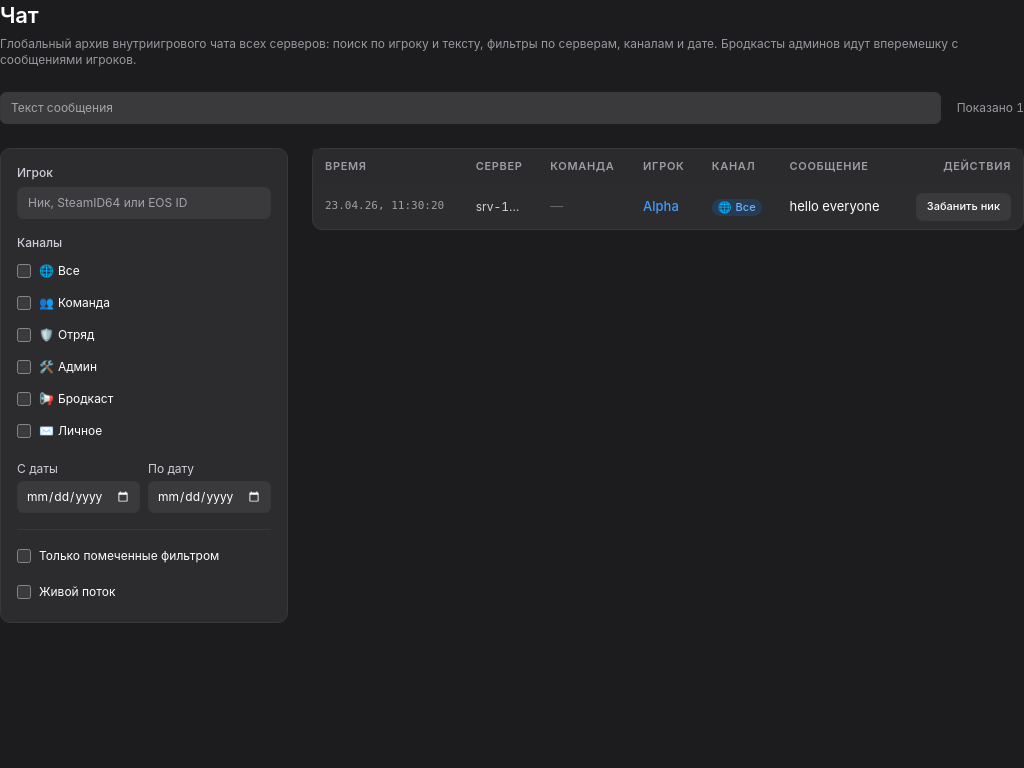
Test: ChatArchive — BANNAME-3 ban button gating + prefill › shows a «Забанить ник» button with the ban squad permission, prefilling the modal with the row nickname
This screenshot has width=1024, height=768.
Click the button "Забанить ник" at (963, 207), box [916, 193, 1011, 221]
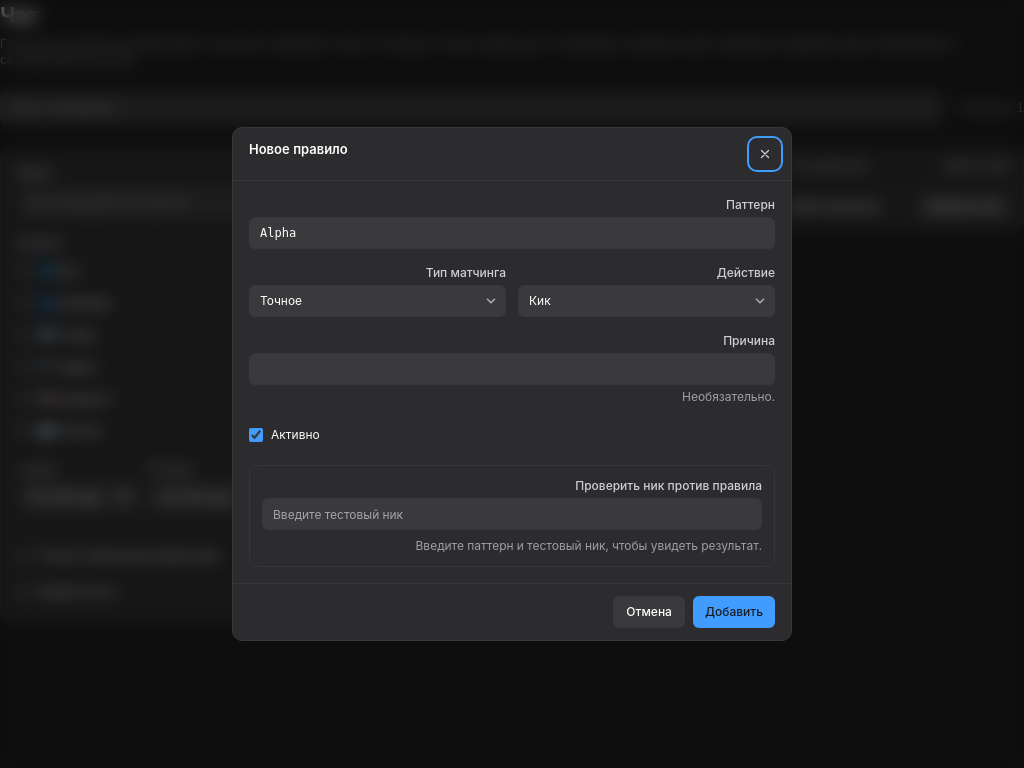
Now the field labelled "Паттерн" holds "Alpha", box [249, 217, 775, 249]
